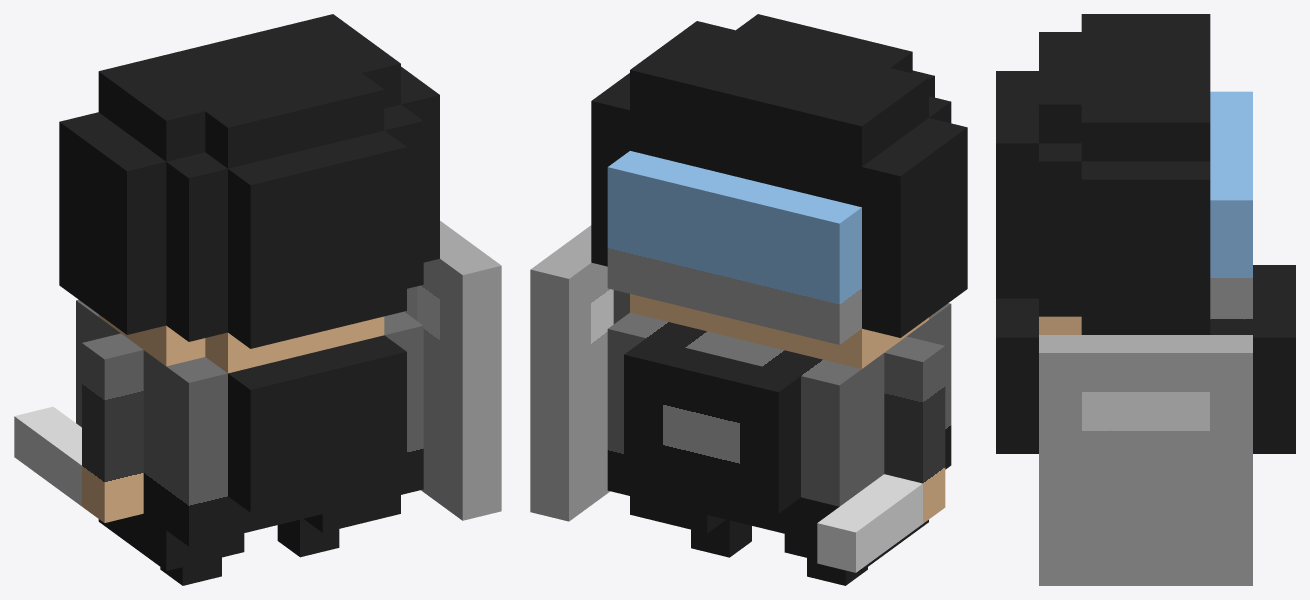
Rendered from chr_riotcop.dae.
3 renders of one model, left to right at view 1: azimuth 30°, elevation 25°; view 2: azimuth 150°, elevation 25°; view 3: azimuth 270°, elevation 25°, orthographic. The views are drawn at different scales.
Parts seen in each view (by area): view 1: chr_riotcop; view 2: chr_riotcop; view 3: chr_riotcop.
Part boxes in pixels (bbox=[...]): chr_riotcop: bbox=[14, 14, 501, 585]; chr_riotcop: bbox=[530, 14, 967, 585]; chr_riotcop: bbox=[996, 14, 1295, 585].
Size of the model in its own units: 0.9 by 0.7 by 1.2.
